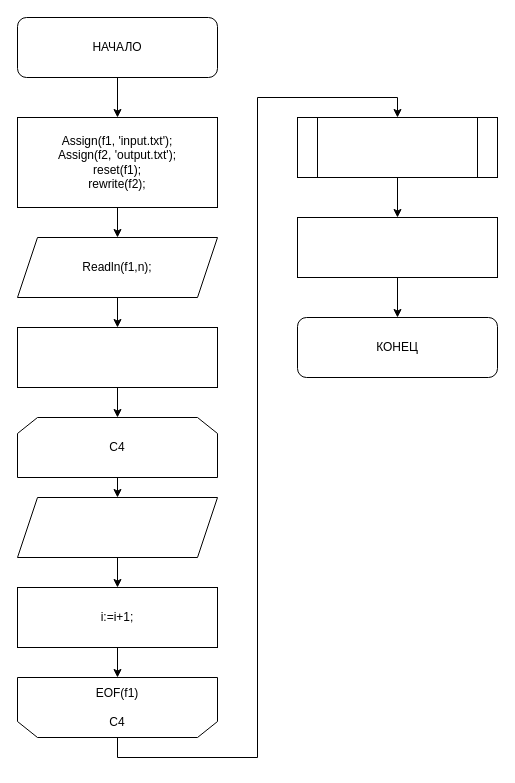
Image size: 515x783. Some labels were removed from this diagram. Here are the shapes that lost their labels. From the top down, the box of each, then its label:
(296, 116, 498, 178): vub(b, @sravnup);
(296, 216, 498, 278): Close(f1); Close(f2);
(16, 326, 218, 388): i:=1;
(16, 496, 218, 558): Read(f1, b[i]);
